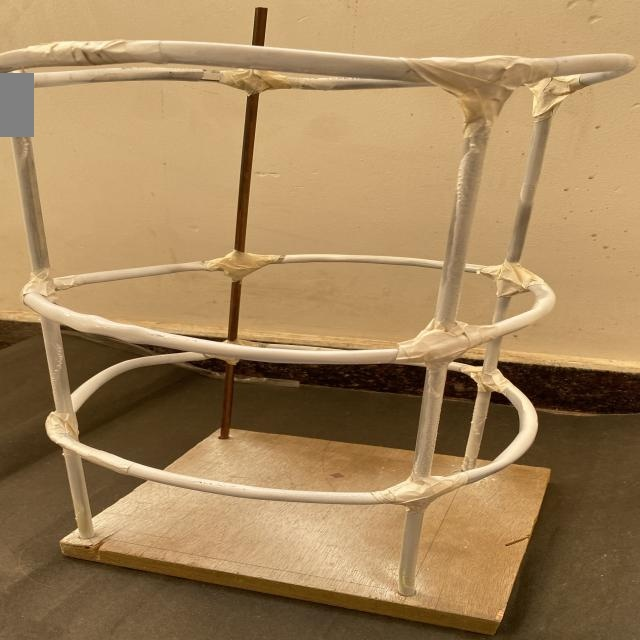silo: (0, 11, 640, 636)
